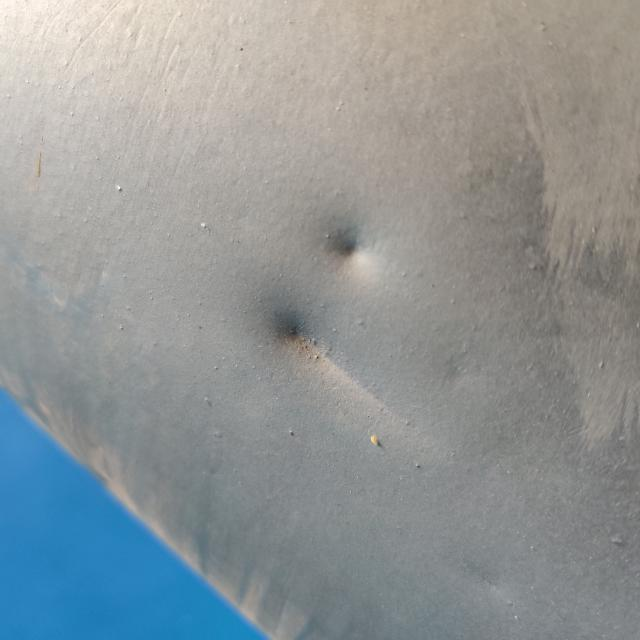dent: (248, 290, 401, 418), (314, 216, 384, 282)
